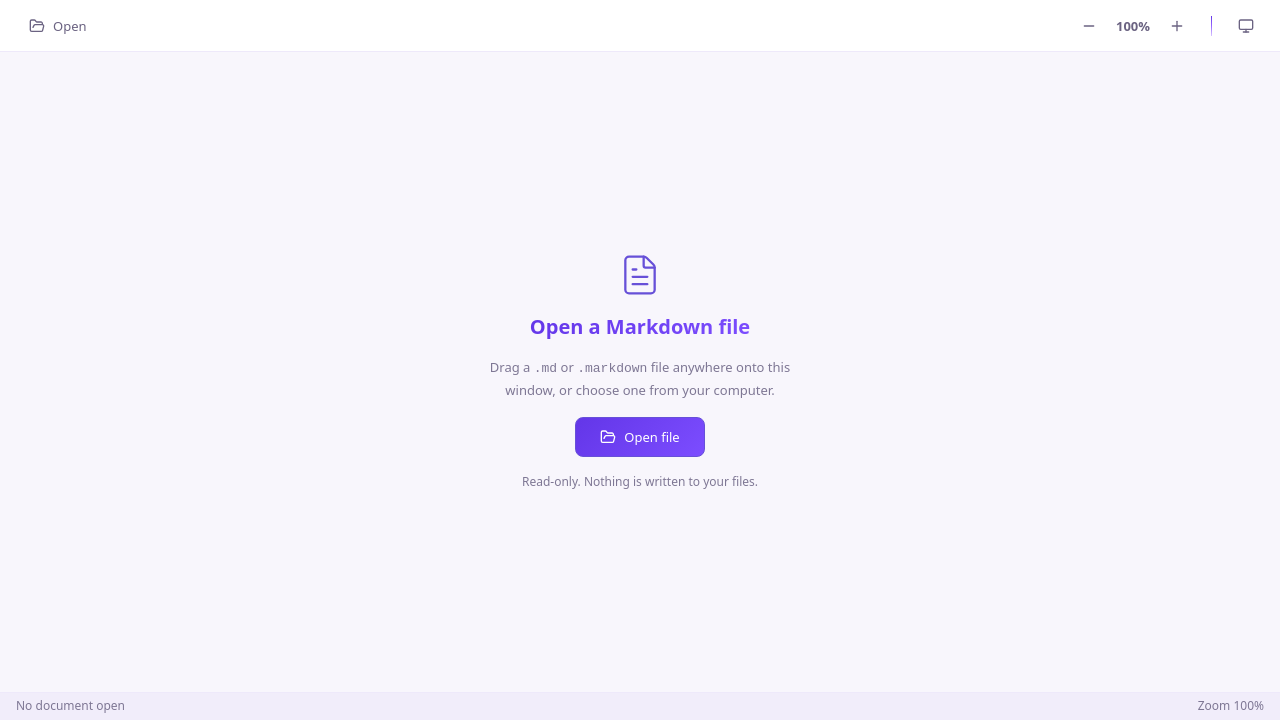
it: file-level states › reports an oversized file as a recoverable error with its real limit
Click the button "Open file". click: point(640, 437)
box: [575,417,705,457]
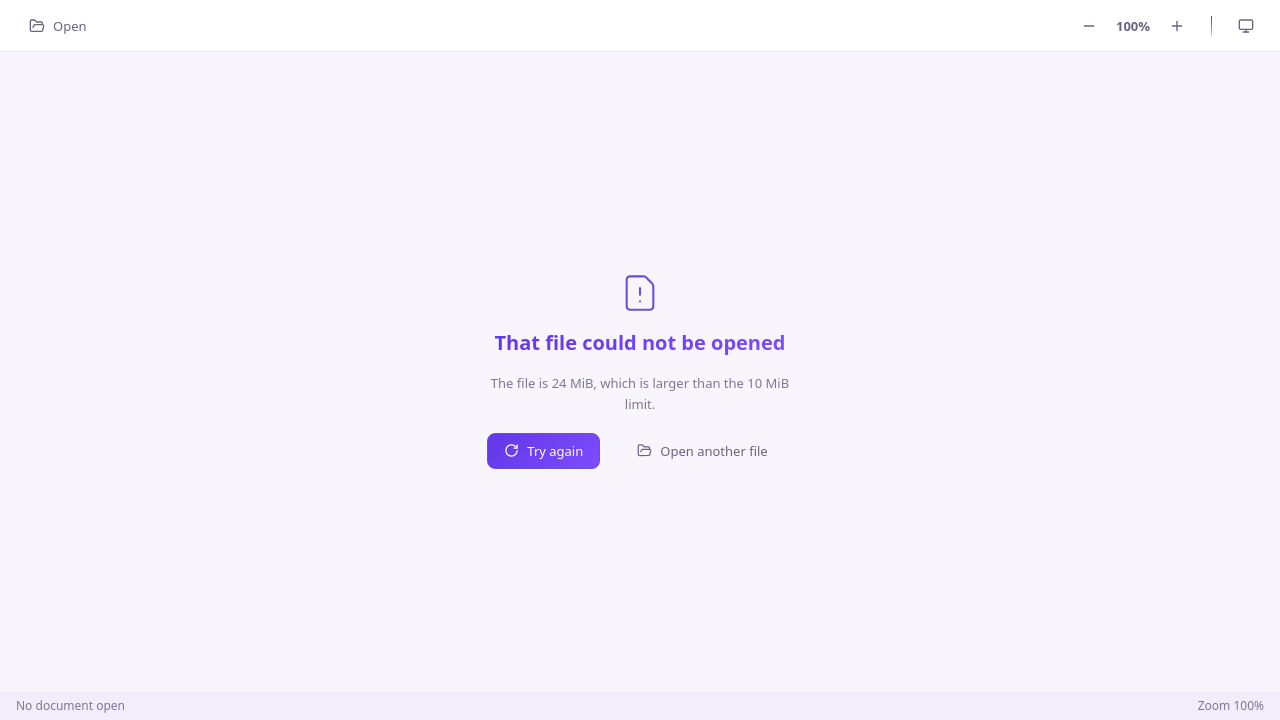
Expected: the message reads "The file is 24 MiB, which is larger than the 10 MiB limit.", [491,374,789,413]
Expected: the heading "That file could not be opened" is shown, [494,329,786,357]
Expected: the button "Try again" is shown, [487,433,600,469]
